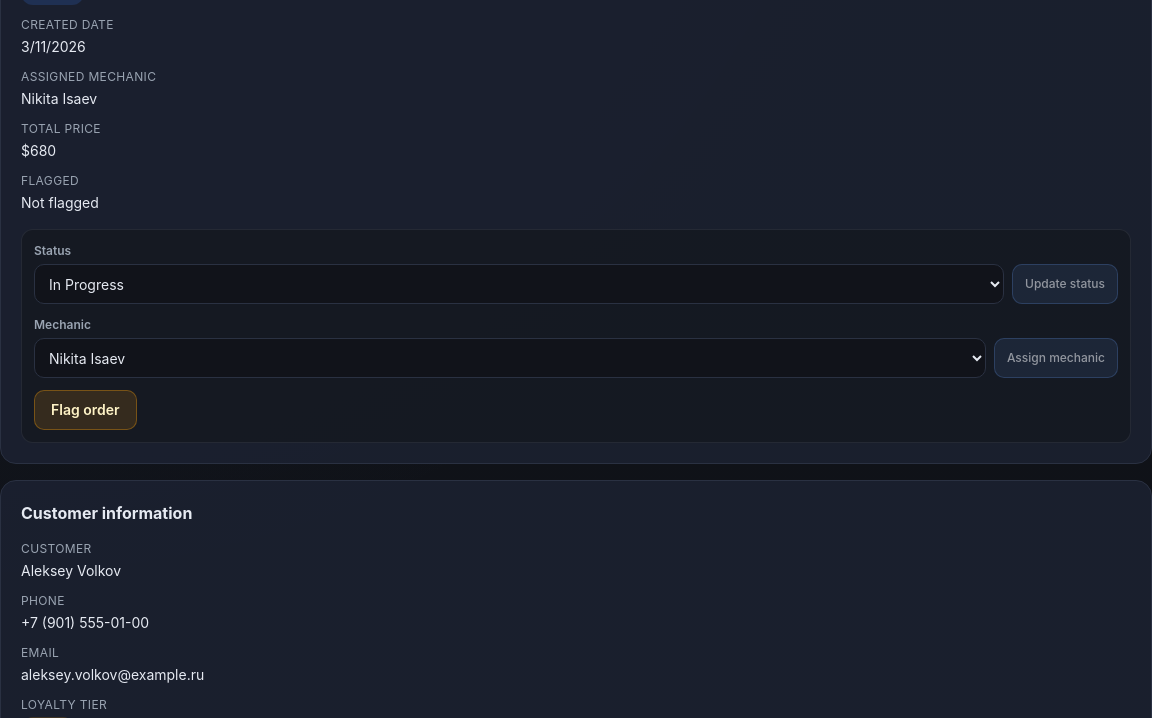
OrderDetailsOverview › assigns mechanic from order details action block
The image size is (1152, 718).
(page scrolled)
Select "Artem Bondar" in the dropdown named "Mechanic": (510, 358) [34, 338, 986, 378]
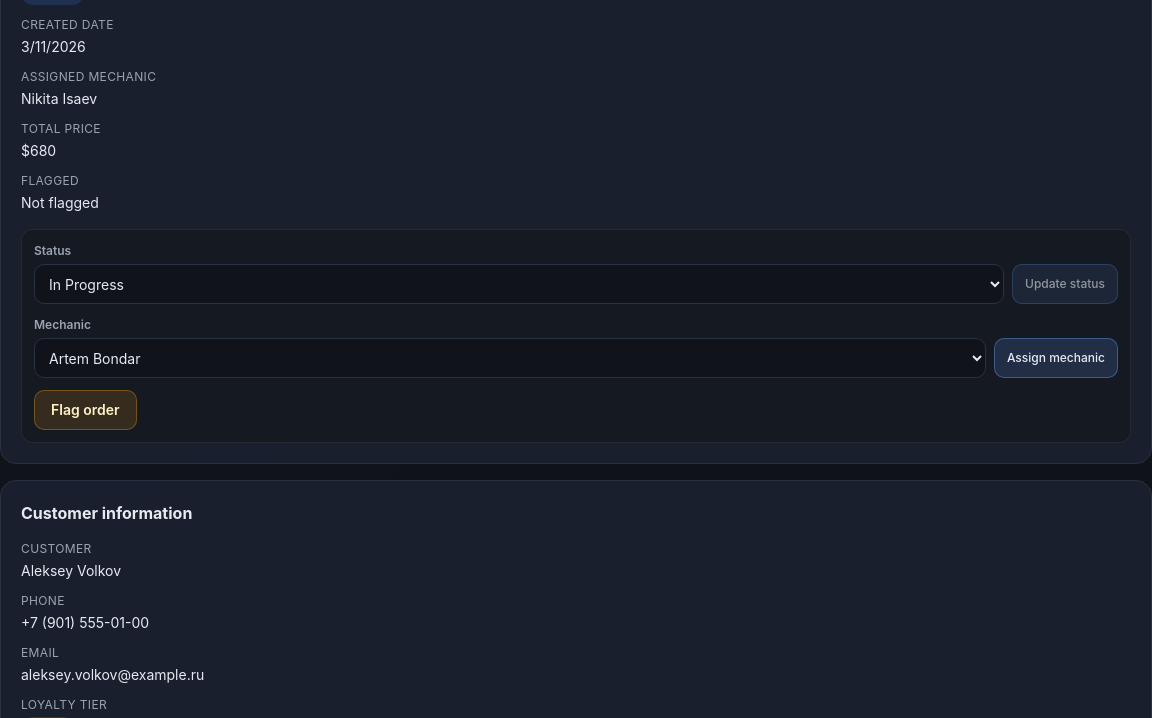
Click the button "Assign mechanic": (1056, 358) [994, 338, 1118, 378]
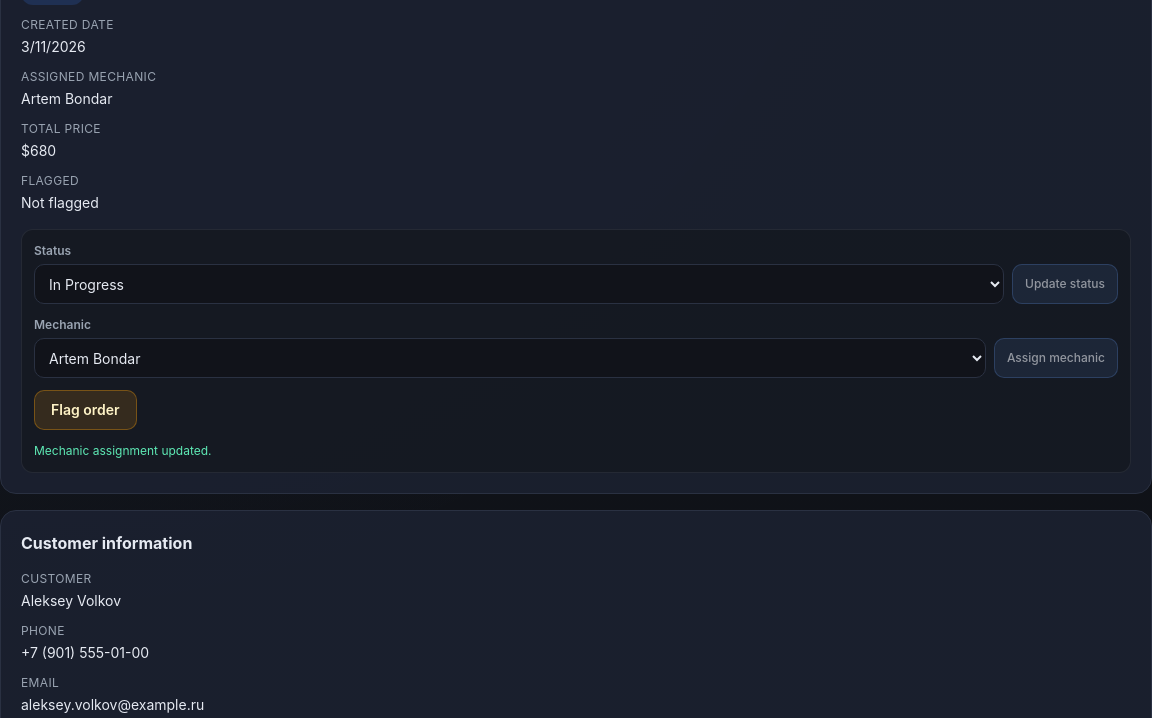
Check: the text "Mechanic assignment updated." is shown, box [34, 443, 212, 458]
